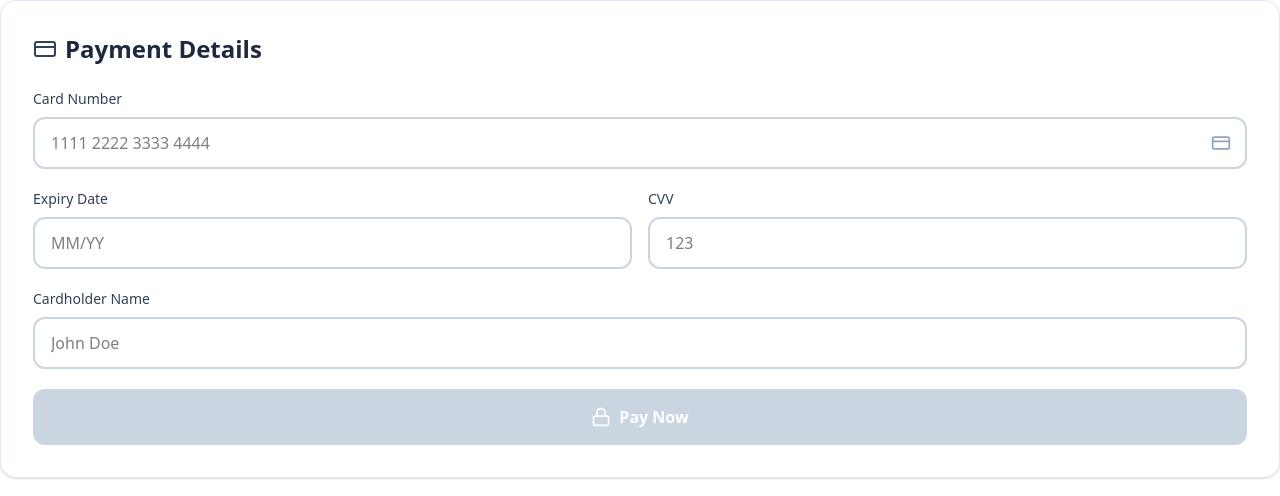
Test: PaymentForm › updates card number input correctly
Type "1234123412341234" into the field with placeholder "1111 2222 3333 4444".
click(640, 143); type("1234123412341234")  # box [33,117,1247,169]
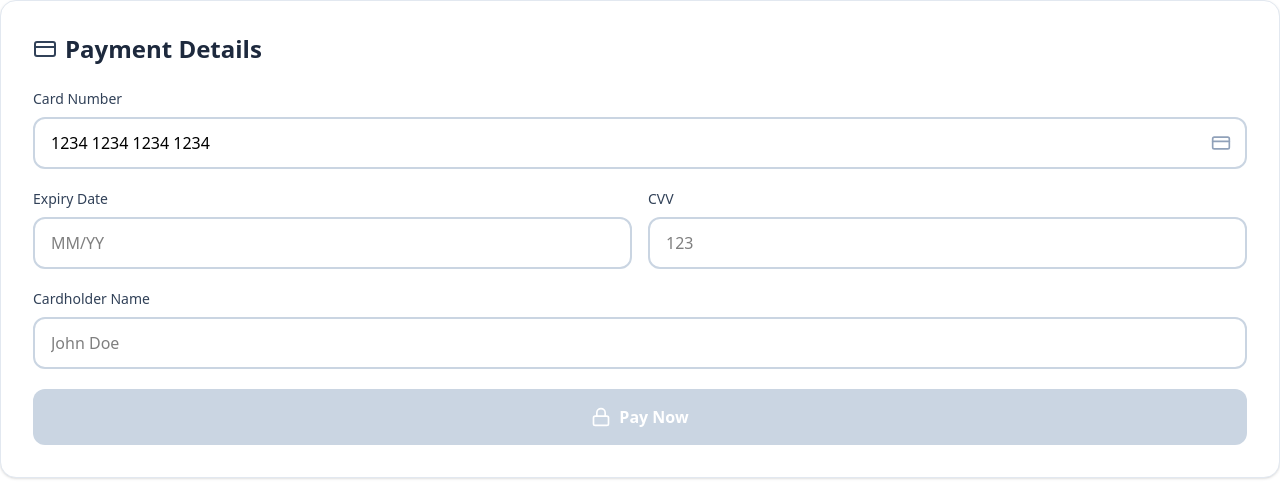
expect the field with placeholder "1111 2222 3333 4444" holds "1234 1234 1234 1234": met, box [33,117,1247,169]
